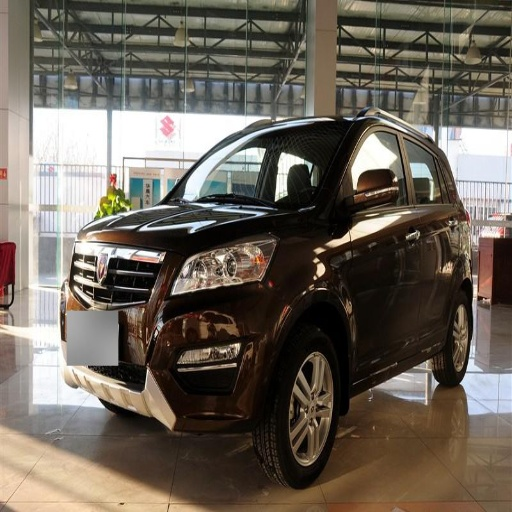front_bumper: (68, 241, 283, 429)
front_glass: (164, 122, 351, 209)
front_left_door: (338, 121, 423, 365)
